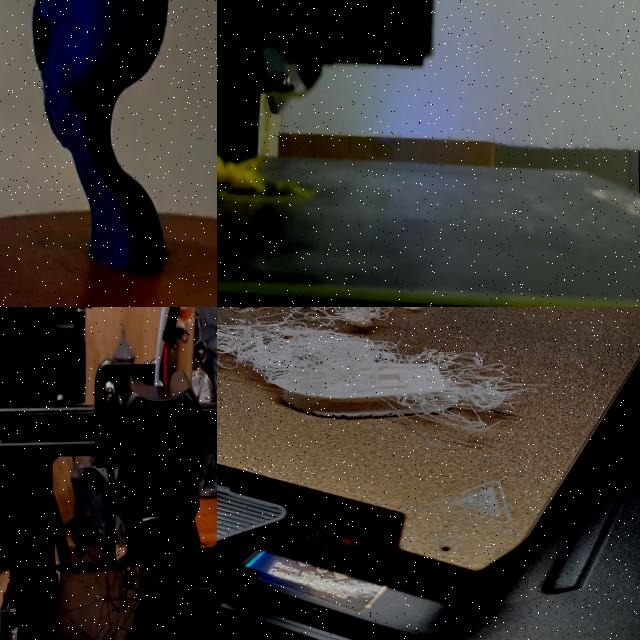spaghetti: (217, 320, 530, 443), (74, 532, 217, 640), (217, 154, 267, 193)
